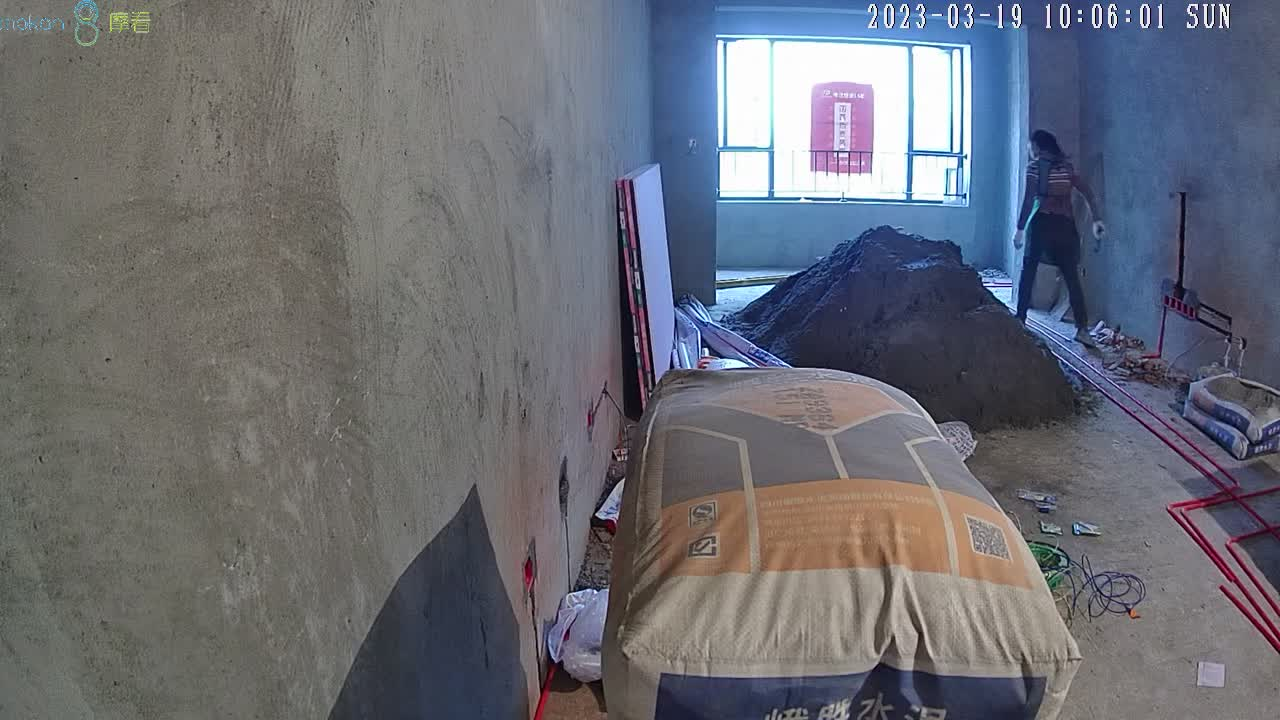people: (1013, 130, 1102, 347)
window: (715, 35, 968, 202)
